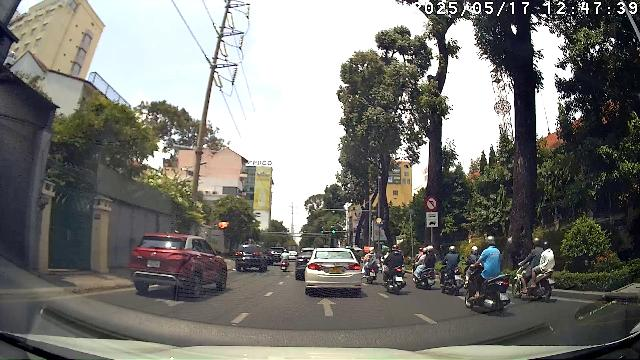123a-cam-re-trai: (425, 196, 438, 210)
